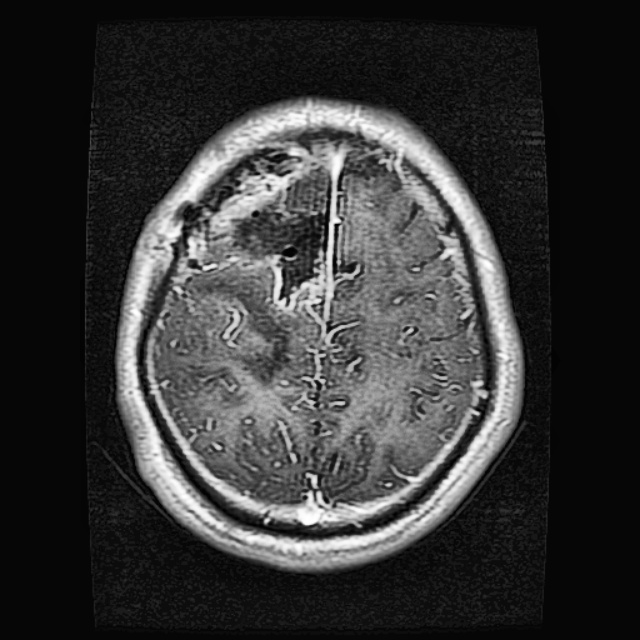Glioma: (227, 164, 363, 304)
